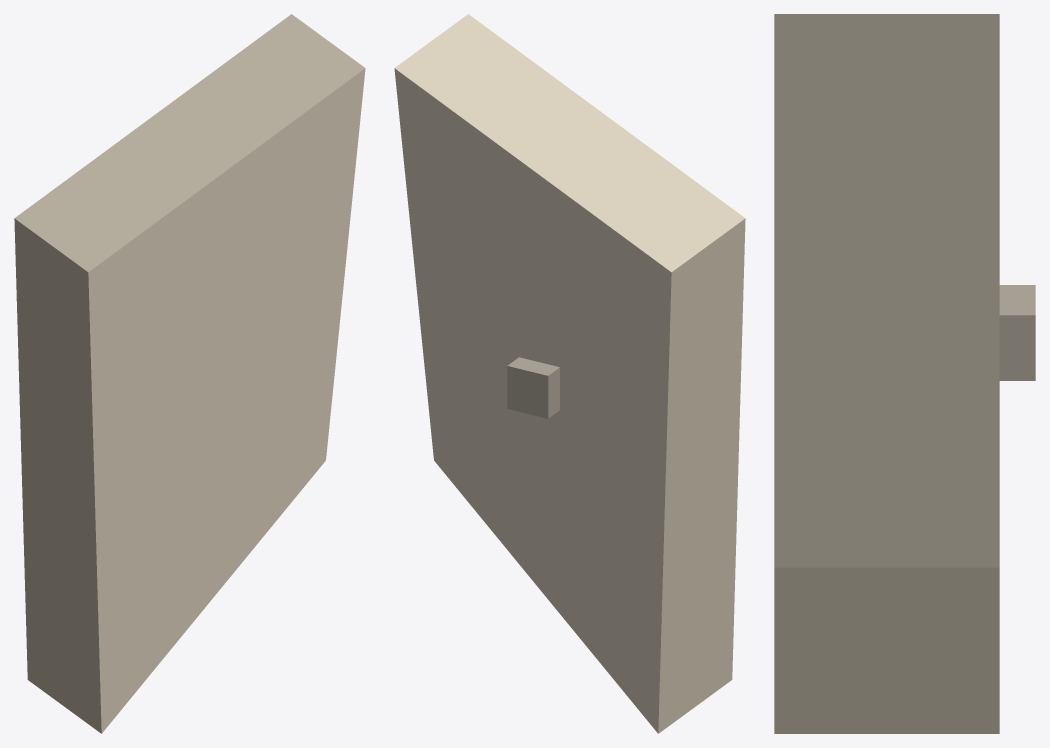
File: historic-palestine-12_28_3539_3229.glb
3 views of the same model, side by side, from view 1: azimuth 30°, elevation 25°; view 2: azimuth 150°, elevation 25°; view 3: azimuth 270°, elevation 25° (orthographic). The views are drawn at different scales.
Parts seen in each view (by area): view 1: Building_; view 2: Building_, Roof access hut; view 3: Building_, Roof access hut.
Boxes of the visible parts, x1,y1,x2,y2 form: Building_: [14, 14, 365, 733]; Building_: [394, 14, 745, 733]; Roof access hut: [507, 357, 559, 418]; Building_: [774, 14, 999, 733]; Roof access hut: [999, 285, 1035, 380].
Bounding box in the file's own units: 16.23 × 33.66 × 8.7.
